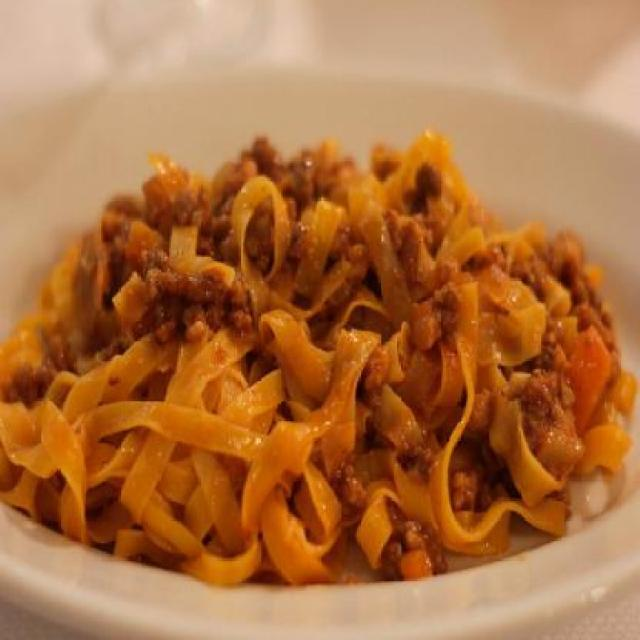Pasta al ragu: (17, 132, 640, 586)
